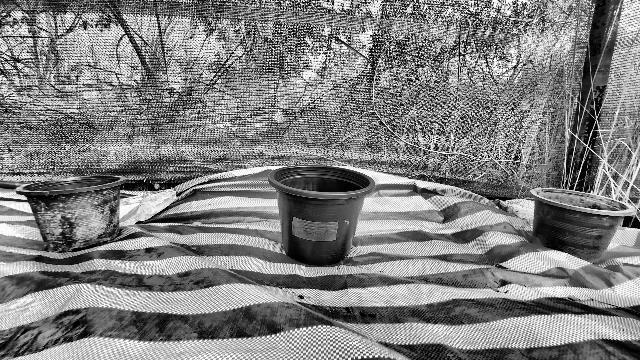pot: (269, 165, 374, 266), (16, 176, 127, 252), (529, 189, 635, 263)
